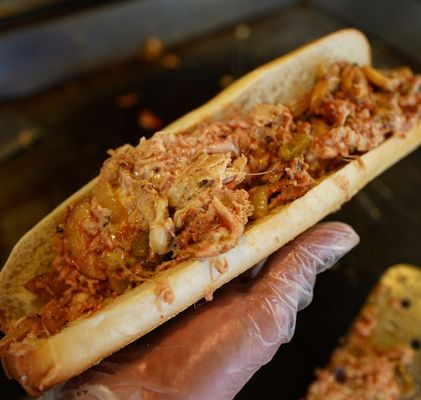soup: (0, 87, 381, 397)
